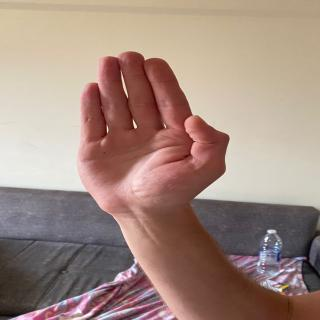SEEN: (62, 47, 233, 219)
